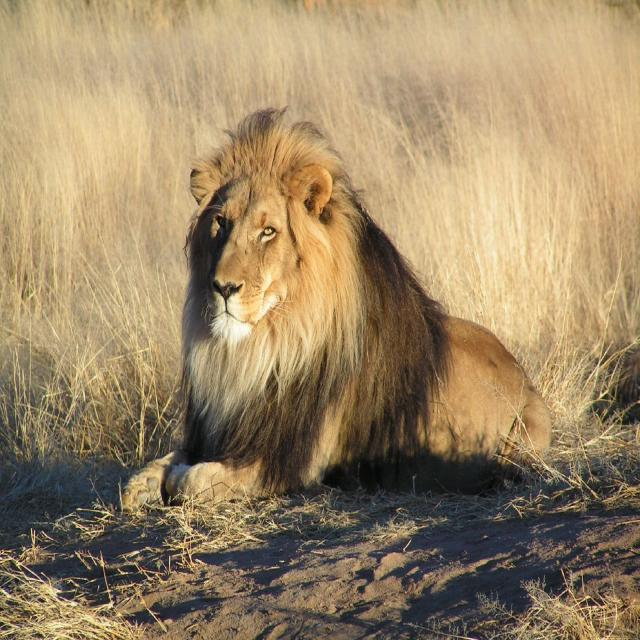Lion: (120, 104, 552, 513)
